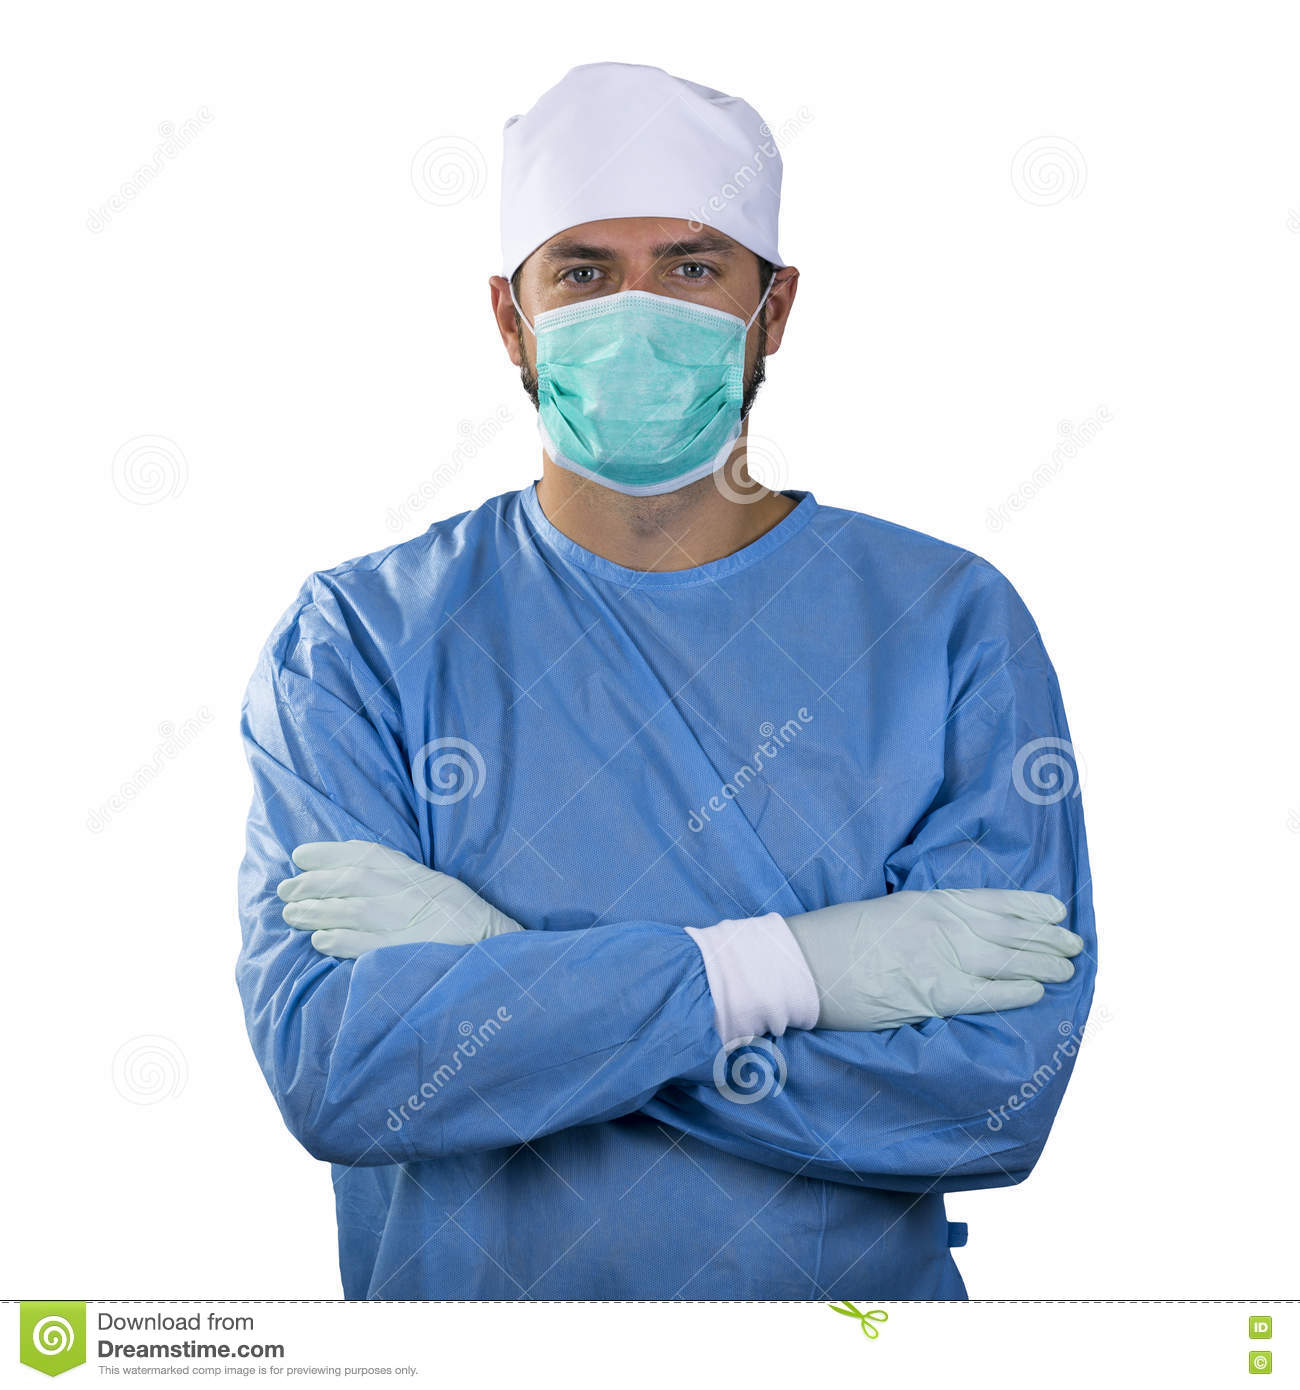mask: (522, 292, 773, 515)
